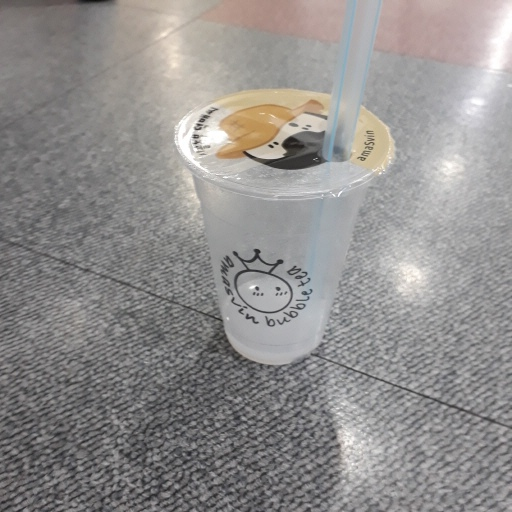Plastic_2: (172, 1, 403, 367)
